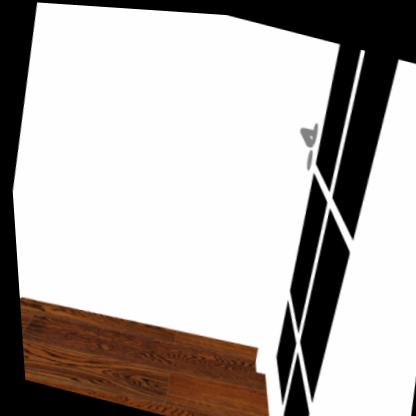Wooden floor: (16, 297, 263, 416)
